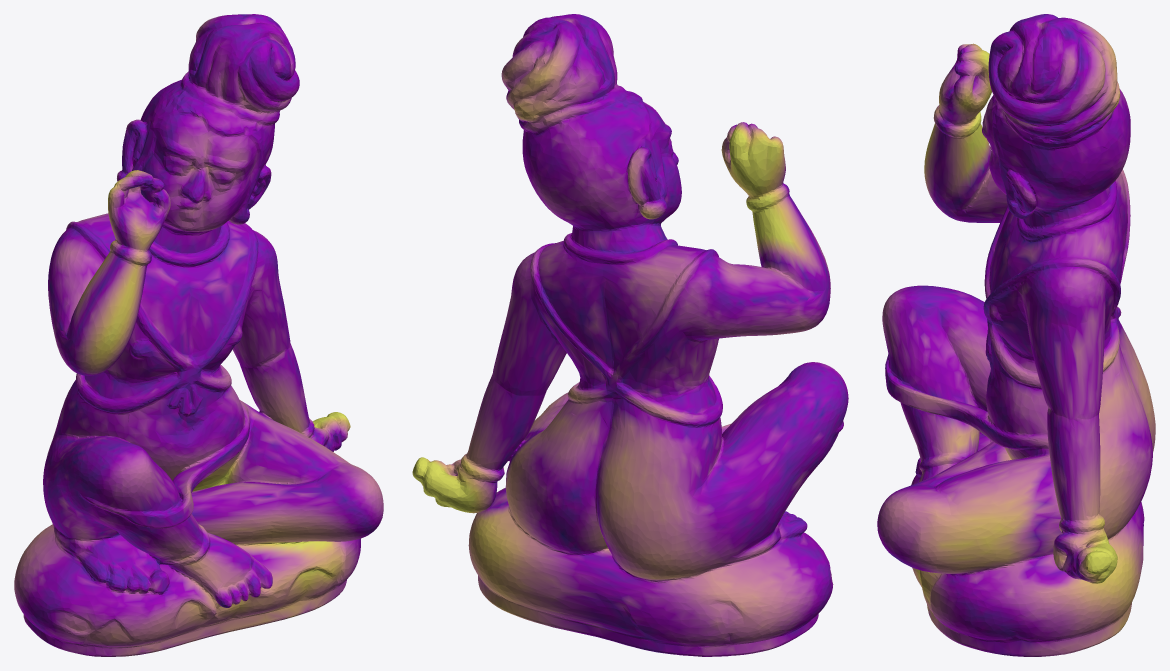
File: iter_1.glb
3 views of the same model, side by side, from view 1: azimuth 30°, elevation 25°; view 2: azimuth 150°, elevation 25°; view 3: azimuth 270°, elevation 25° (orthographic). The views are drawn at different scales.
Parts seen in each view (by area): view 1: textured_mesh; view 2: textured_mesh; view 3: textured_mesh.
Boxes of the visible parts, x1,y1,x2,y2 form: textured_mesh: (14,14,383,656); textured_mesh: (412,14,848,656); textured_mesh: (877,14,1155,656).
Size of the model in its own units: 1.34 by 1.99 by 0.8441.
